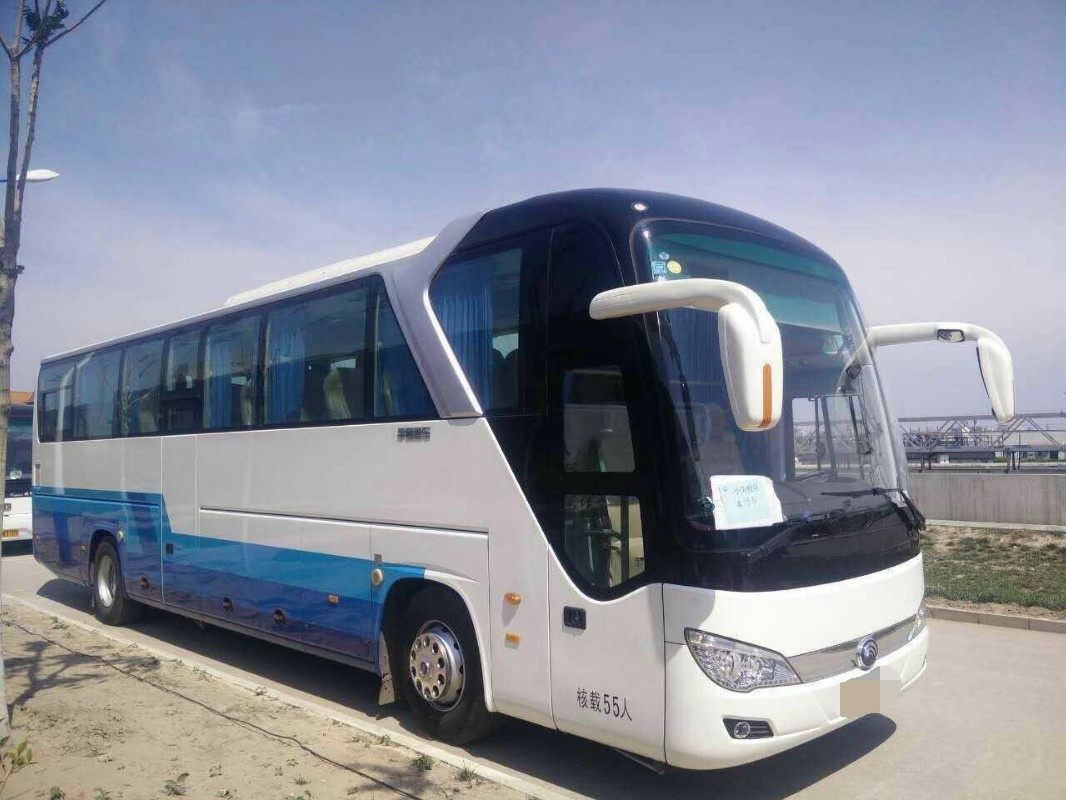bus: (26, 198, 933, 776)
